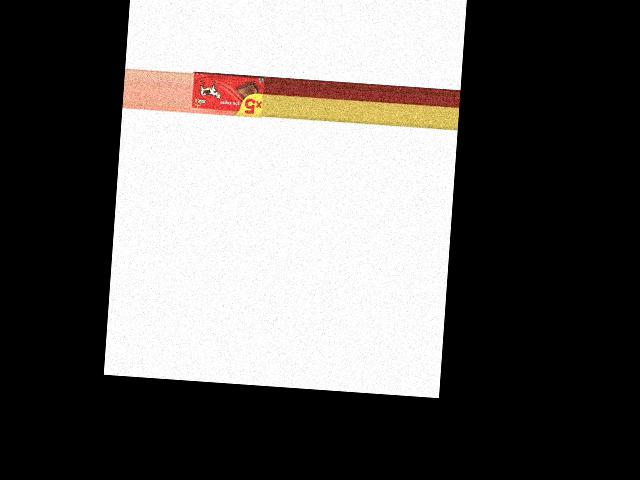chocolate: (188, 71, 264, 119)
